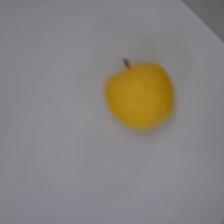yellow: (104, 57, 175, 130)
